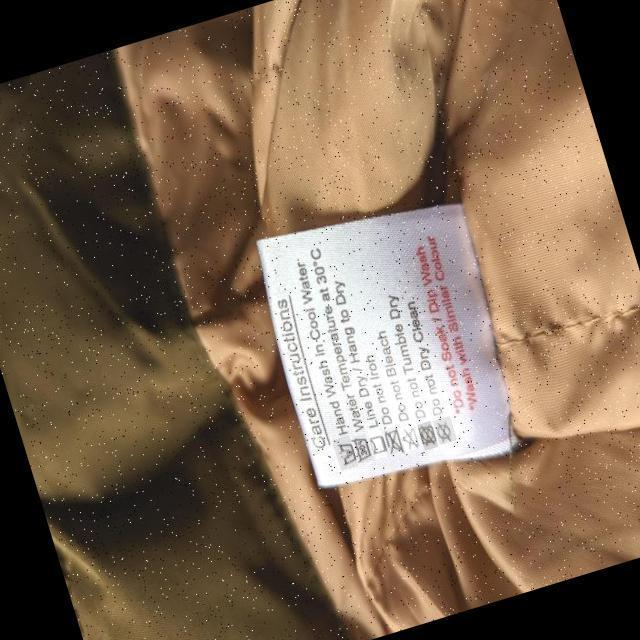30C: (357, 438, 371, 462)
DN_bleach: (402, 428, 421, 450)
DN_dry_clean: (436, 420, 456, 443)
DN_iron: (386, 429, 403, 455)
DN_tumble_dry: (418, 424, 438, 447)
hand_wash: (339, 441, 355, 465)
line_dry: (370, 435, 388, 457)
